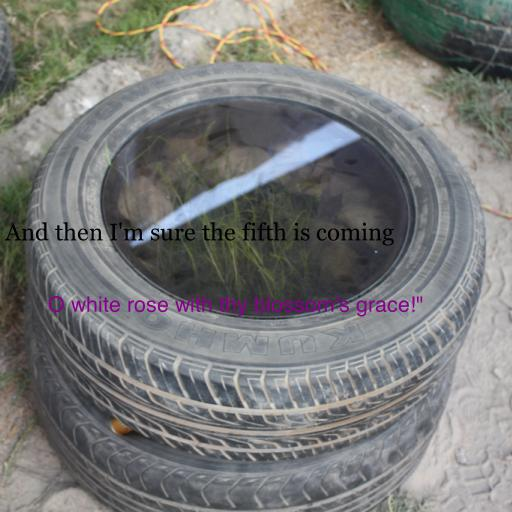Georgia: (4, 222, 394, 246)
SF Pro: (48, 296, 424, 317)
